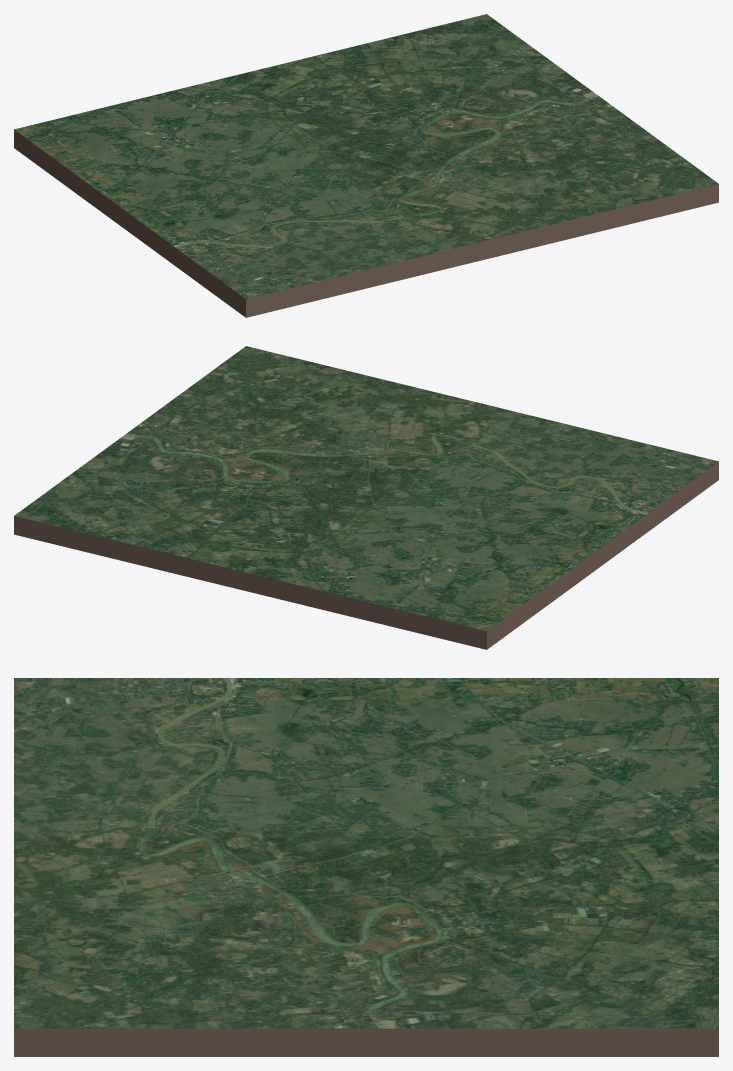
Rendered from earth.fbx.
The picture shows the model from 3 angles, top to bottom: view 1: azimuth 30°, elevation 25°; view 2: azimuth 150°, elevation 25°; view 3: azimuth 270°, elevation 25°; orthographic projection. The views are drawn at different scales.
Parts seen in each view (by area): view 1: earch; view 2: earch; view 3: earch.
Boxes of the visible parts, x1,y1,x2,y2 form: earch: (14, 14, 718, 317); earch: (14, 346, 718, 649); earch: (14, 678, 718, 1056).
Size of the model in its own units: 364 by 13.69 by 309.
Materials: 2 (1 with a texture image).
